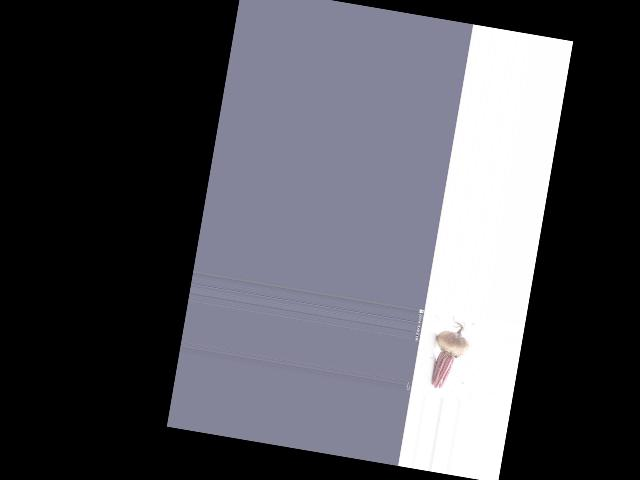beet: (428, 314, 473, 392)
